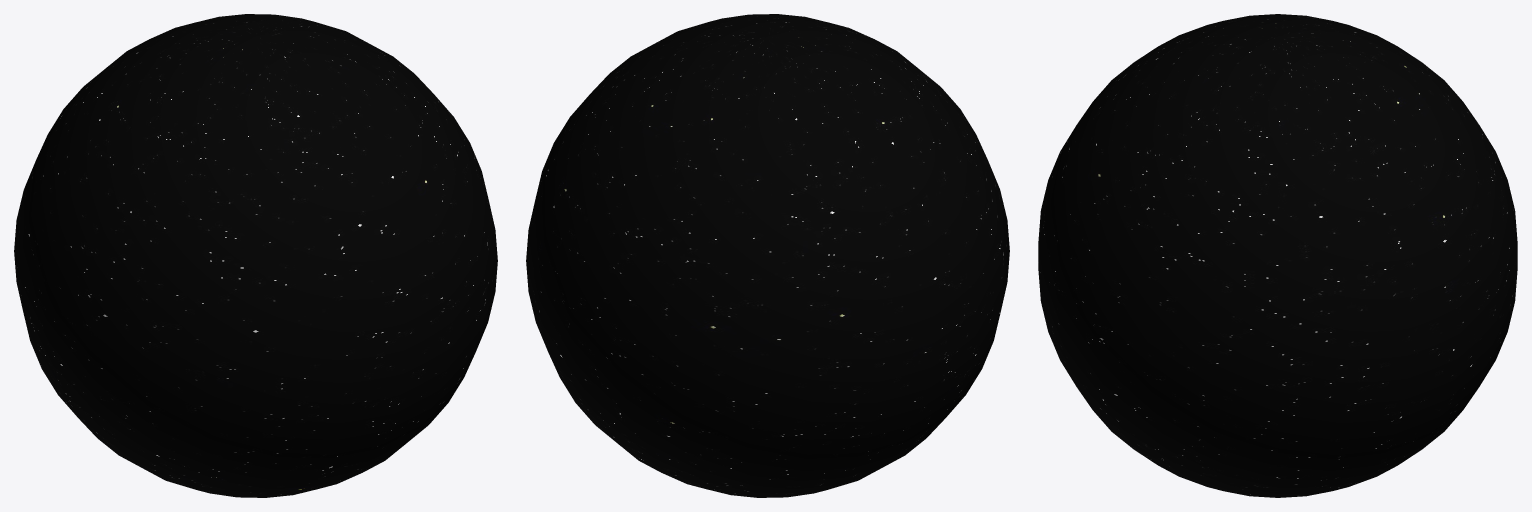
Rendered from Cubo.obj.
3 views of the same model, side by side, from view 1: azimuth 30°, elevation 25°; view 2: azimuth 150°, elevation 25°; view 3: azimuth 270°, elevation 25° (orthographic).
Parts seen in each view (by area): view 1: Esferas; view 2: Esferas; view 3: Esferas.
Boxes of the visible parts, x1,y1,x2,y2 form: Esferas: (14,14,497,497); Esferas: (526,14,1009,497); Esferas: (1038,14,1517,497).
Bounding box in the file's own units: 2 × 2 × 1.98.
1 material, 1 textured.
